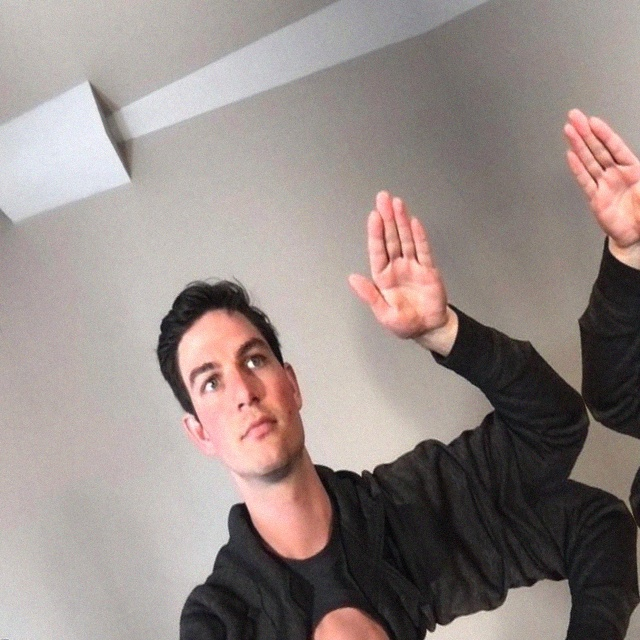Paper: (312, 171, 472, 362)
